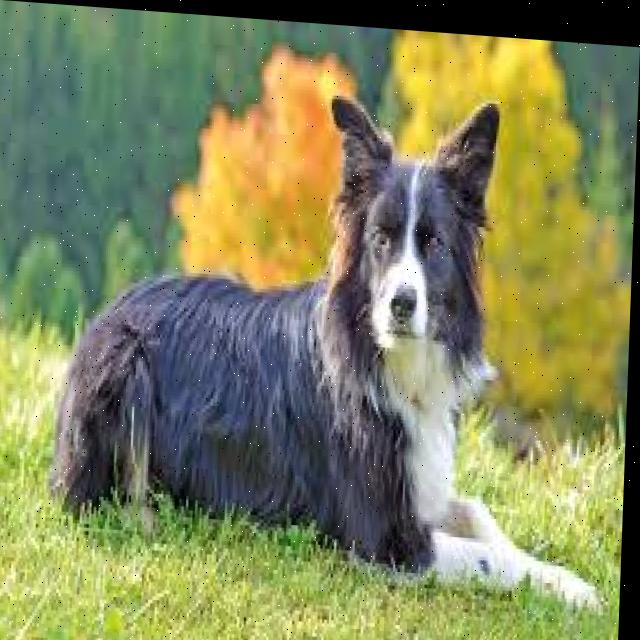BORDER_COLLIE: (30, 65, 633, 596)
